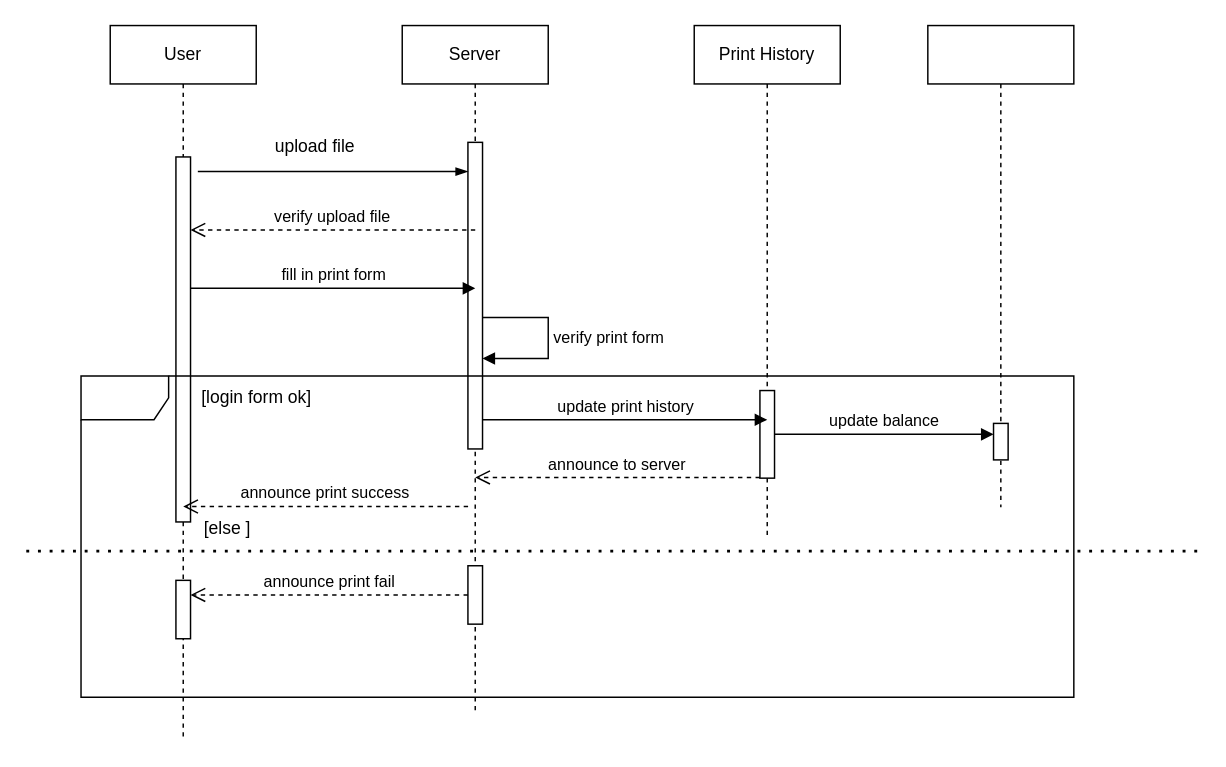
The diagram is 1226 pixels wide and 767 high, and some of its shapes have lost their labels. The box of each missing label's shape, as (x1, y1, x2, y2) in pixels:
frame: (80, 374, 1074, 697)
User History: (926, 24, 1074, 507)
